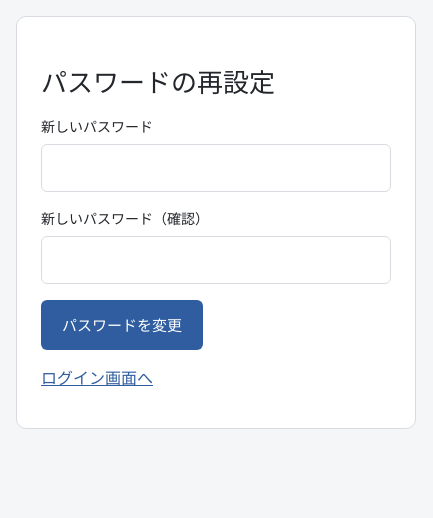
Test: ResetPasswordPage › パスワードが一致しない場合はエラーメッセージを表示しAPIを呼ばない
Expected: the button "パスワードを変更" is enabled, 41,300 -> 203,350
In the password field labelled "新しいパスワード": x=216, y=168 41,144 -> 391,192, type "Passw0rd123!"
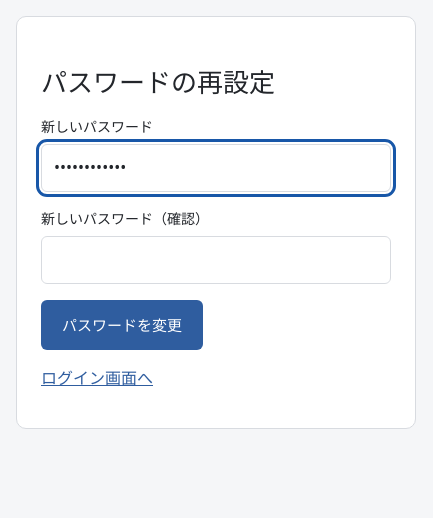
In the password field labelled "新しいパスワード（確認）": x=216, y=260 41,236 -> 391,284, type "Passw0rd123?"
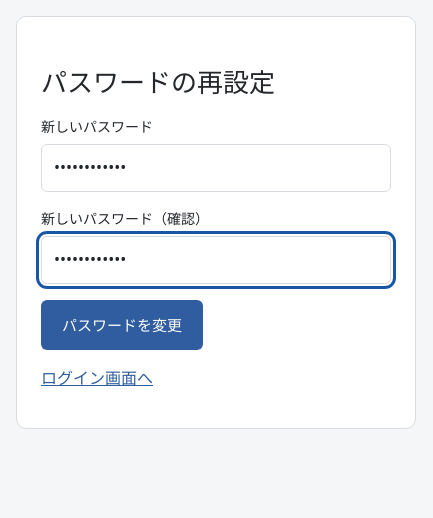
Click the button "パスワードを変更": x=122, y=325 41,300 -> 203,350
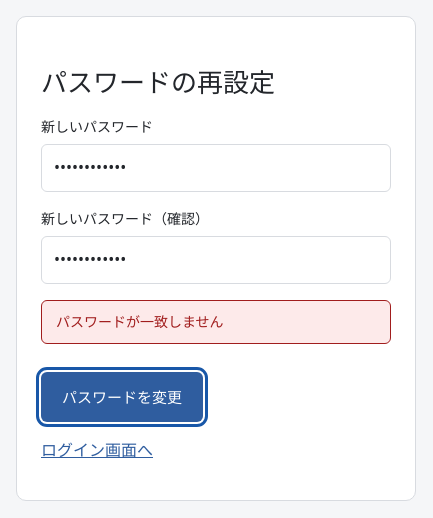
Result: the message reads "パスワードが一致しません" at 56,312 -> 224,331
